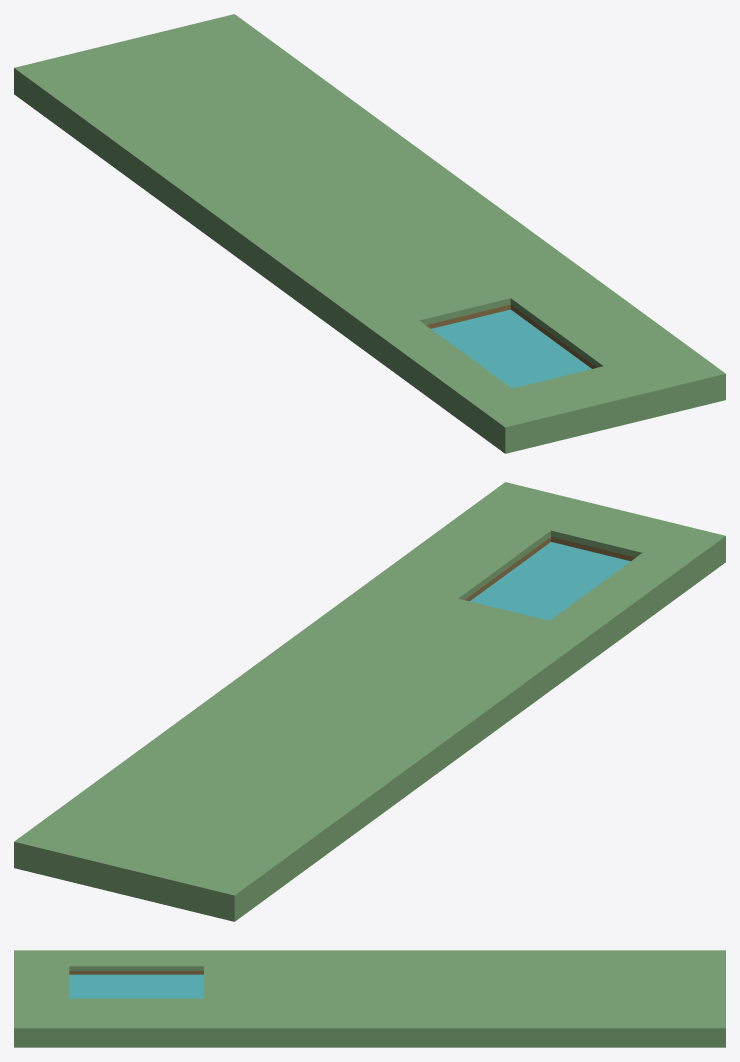
Rendered from Tile_02.fbx.
3 views of the same model, one above another, from view 1: azimuth 30°, elevation 25°; view 2: azimuth 150°, elevation 25°; view 3: azimuth 270°, elevation 25° (orthographic). The views are drawn at different scales.
Parts seen in each view (by area): view 1: Tile_03; view 2: Tile_03; view 3: Tile_03.
Part boxes in pixels (left/top/right/bottom): Tile_03: left=14, top=14, right=725, bottom=453; Tile_03: left=14, top=482, right=725, bottom=921; Tile_03: left=14, top=950, right=725, bottom=1047.
Size of the model in its own units: 35 by 4 by 135.
